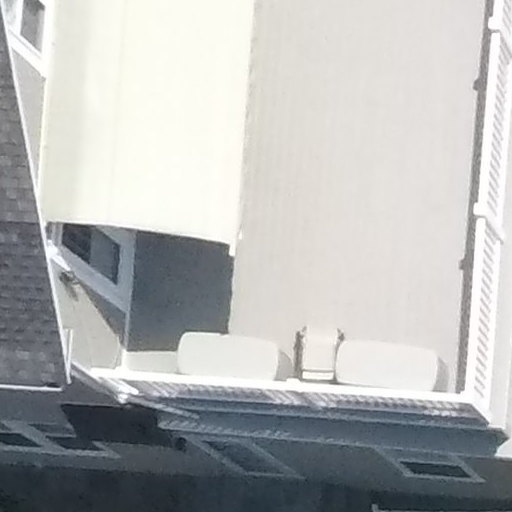awning: (22, 1, 265, 267)
chair: (289, 324, 351, 390)
porch: (76, 1, 512, 431)
